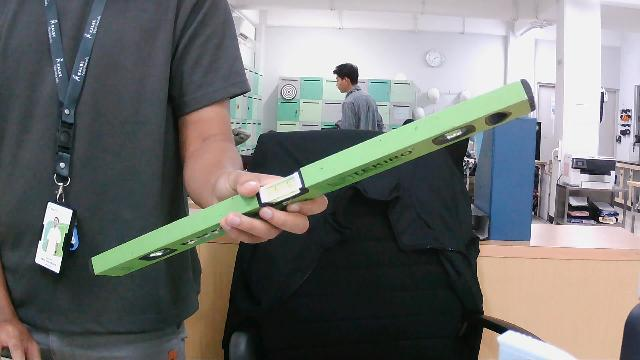water_pass: (87, 73, 540, 279)
